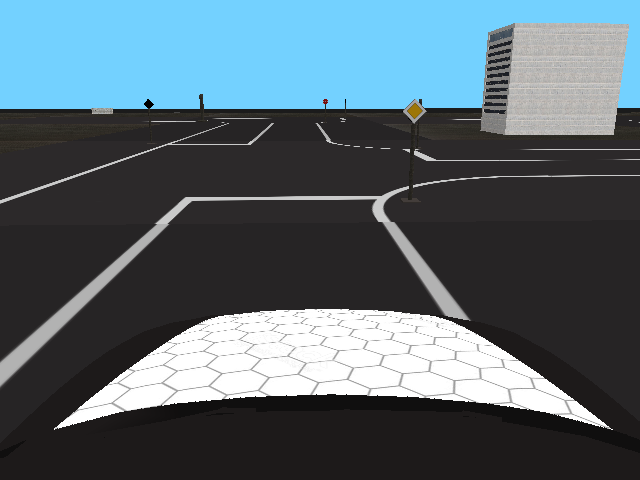yellow_light: (402, 98, 426, 123)
